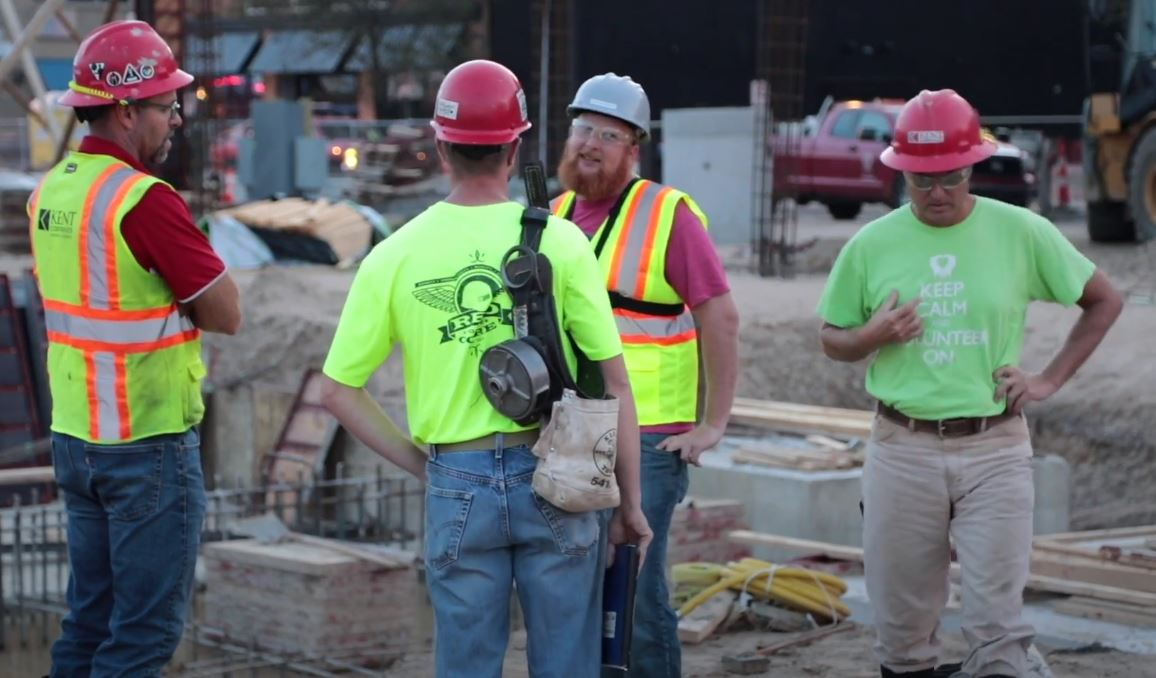Safety Helmet: (49, 2, 196, 205), (405, 40, 550, 215), (870, 69, 996, 245), (547, 53, 665, 215)
